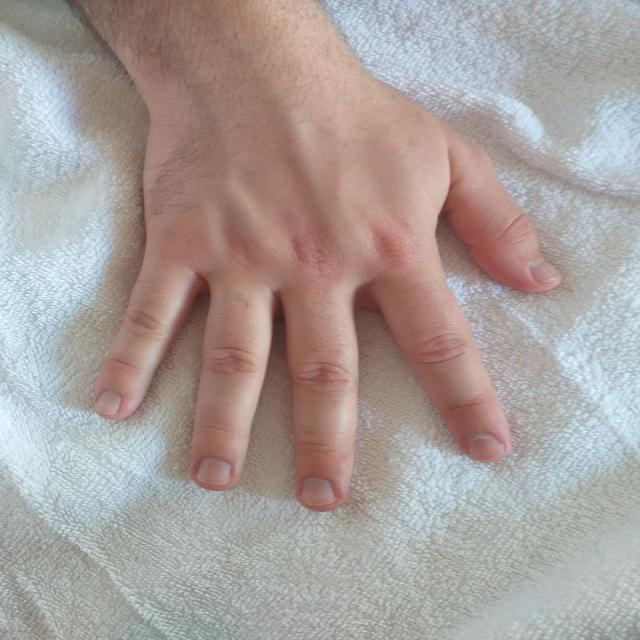Nail: (196, 456, 231, 486), (300, 476, 336, 505), (469, 432, 505, 460), (528, 258, 560, 282), (94, 390, 122, 416)
